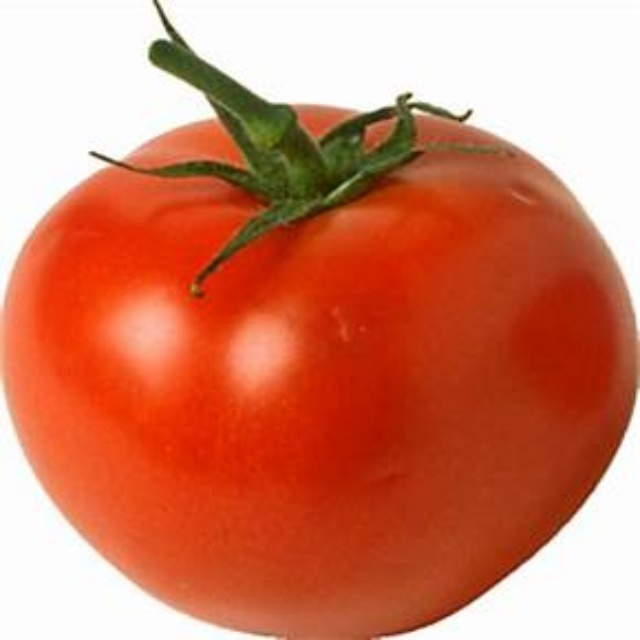tomato: (3, 98, 631, 634)
